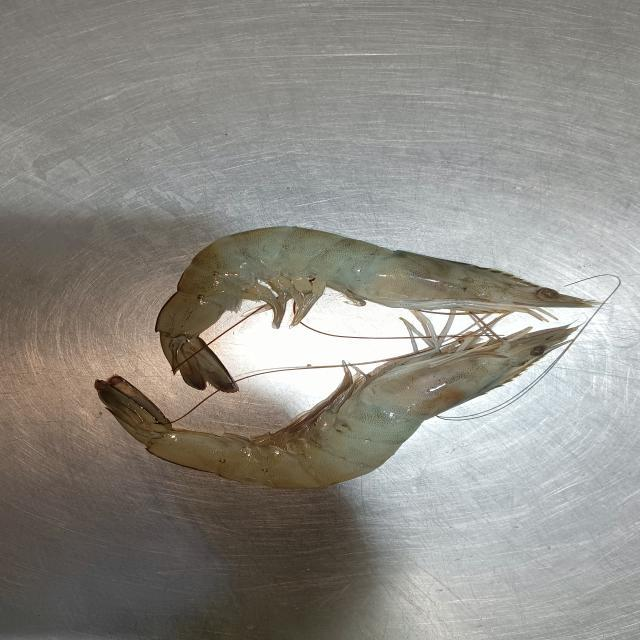shrimp: (157, 227, 595, 390), (99, 347, 556, 487)
